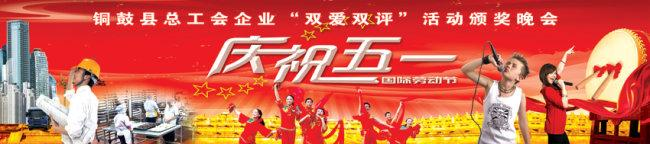helmet: (73, 56, 106, 83)
